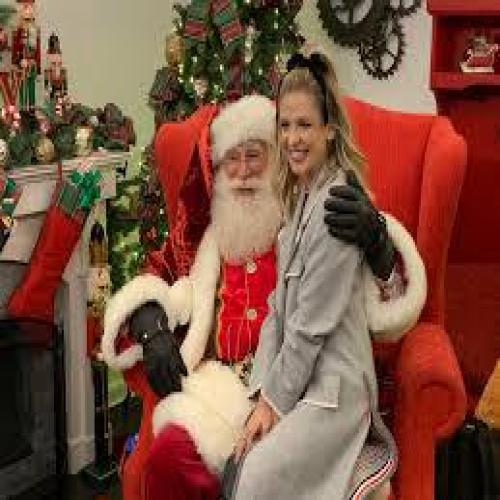Santa: (100, 90, 428, 500)
